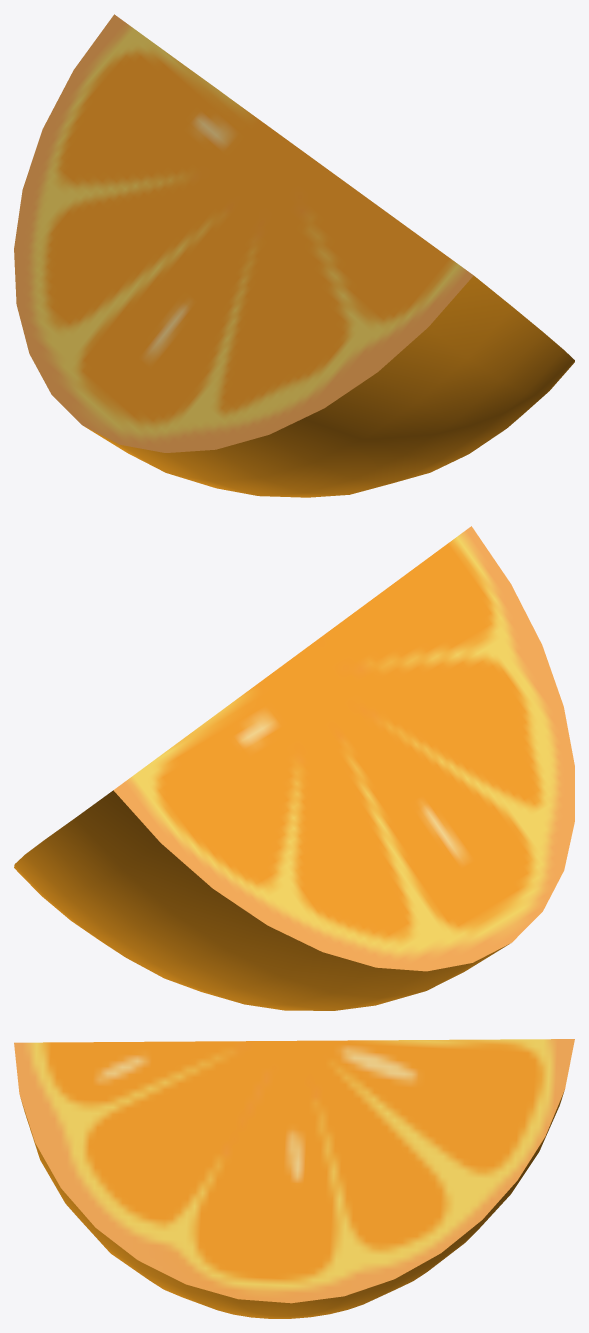
Rendered from Strawberry_Quarter.fbx.
The picture shows the model from 3 angles, top to bottom: view 1: azimuth 30°, elevation 25°; view 2: azimuth 150°, elevation 25°; view 3: azimuth 270°, elevation 25°; orthographic projection. The views are drawn at different scales.
Visible parts, largest first — view 1: Sphere.001; view 2: Sphere.001; view 3: Sphere.001.
Part boxes in pixels (left/top/right/bottom): Sphere.001: left=14, top=14, right=574, bottom=497; Sphere.001: left=14, top=526, right=574, bottom=1010; Sphere.001: left=14, top=1039, right=574, bottom=1318.
Bounding box in the file's own units: 63.66 × 45.23 × 90.88.
